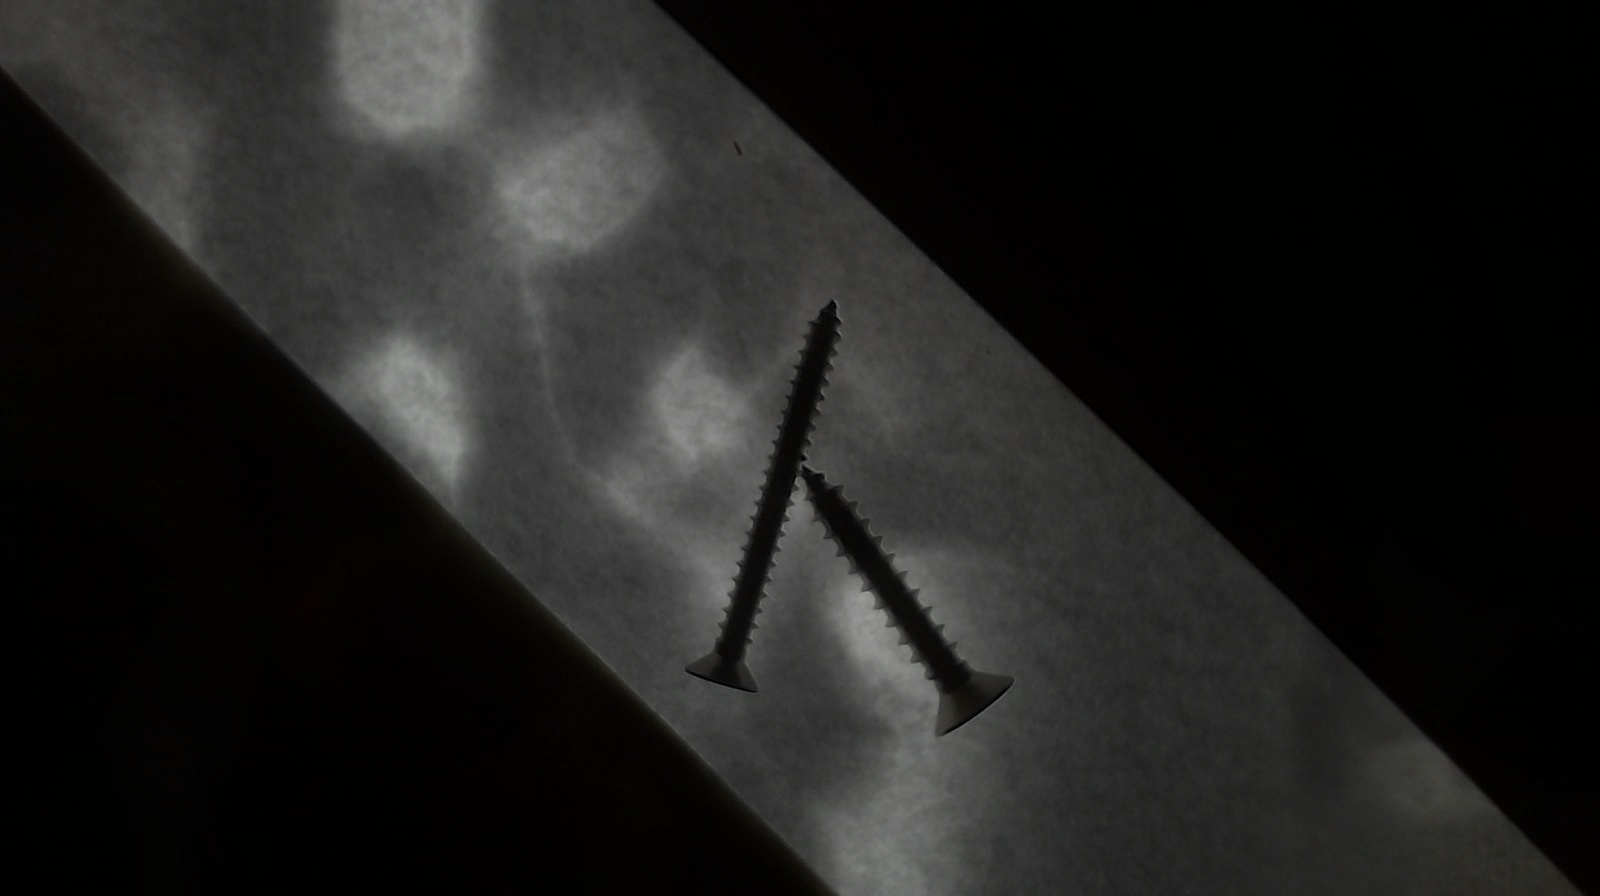S001: (797, 458, 1024, 739)
S002: (684, 297, 844, 695)
